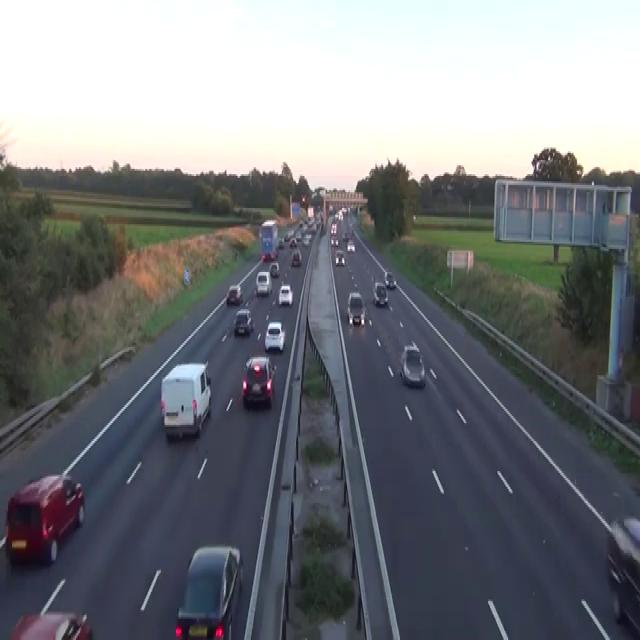Car: (280, 492, 366, 638), (5, 473, 85, 565), (174, 544, 243, 638), (8, 578, 92, 638), (606, 516, 639, 636), (8, 610, 92, 638), (242, 356, 275, 407), (399, 342, 425, 388), (264, 320, 285, 352), (346, 292, 365, 326), (233, 308, 253, 336), (255, 270, 272, 295), (372, 281, 388, 306), (278, 282, 293, 306), (226, 283, 242, 304), (261, 247, 278, 261), (384, 270, 396, 288), (291, 249, 301, 267), (335, 249, 344, 267), (269, 262, 279, 278), (284, 229, 294, 242), (346, 240, 355, 252), (277, 236, 284, 249), (330, 222, 337, 235), (330, 237, 338, 247), (289, 237, 297, 247), (302, 235, 310, 245), (342, 231, 349, 242), (294, 229, 301, 240), (446, 182, 454, 190), (337, 210, 343, 220), (260, 252, 266, 262), (301, 194, 306, 204), (328, 204, 333, 213), (341, 206, 346, 214), (412, 214, 416, 222)
Truck: (160, 361, 211, 437), (259, 219, 278, 261)
